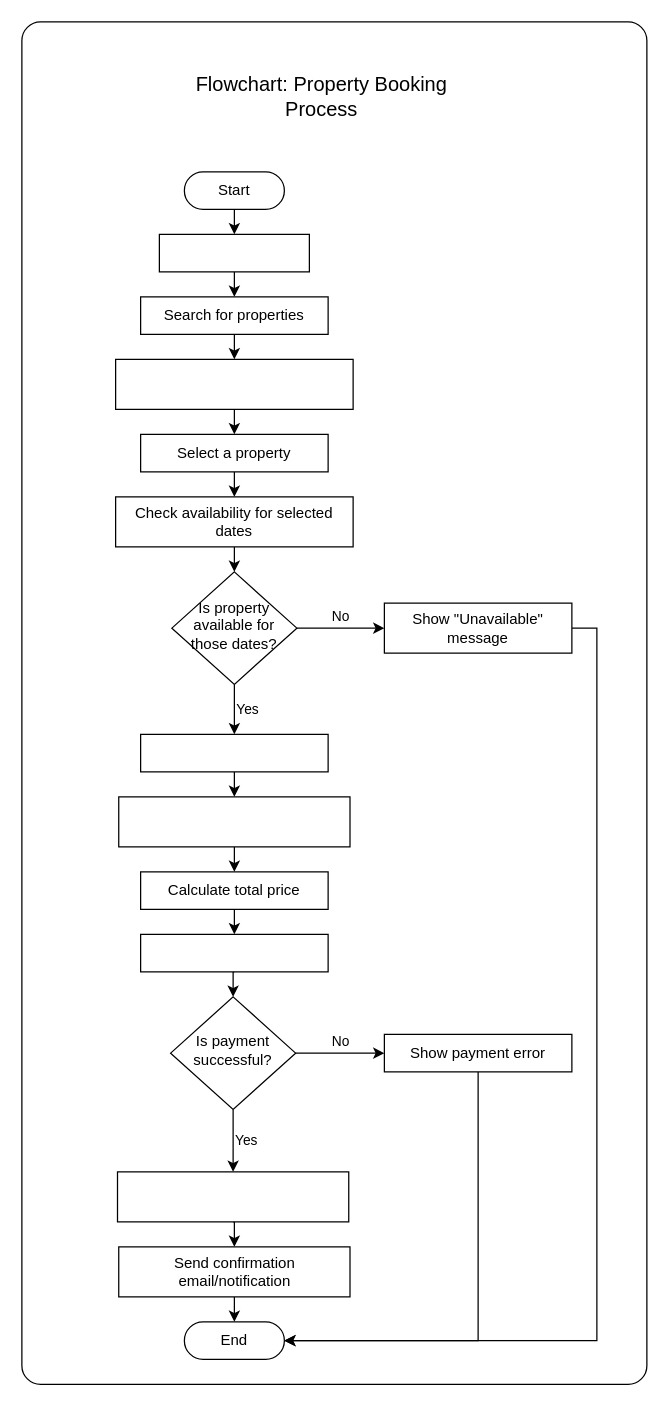
Image size: 669x1406. Some labels were removed from this diagram. Here are the shapes that lost their labels. From the top down, the centre of each, then its label:
At point (233, 252): "User logs in".
At point (233, 383): "Apply filters (location, dates, guests, amenities)".
At point (233, 752): "Proceed to booking".
At point (234, 821): "Enter booking details (dates, guest info)".
At point (233, 952): "Proceed to payment".
At point (232, 1196): "Create booking record Update property availability".
